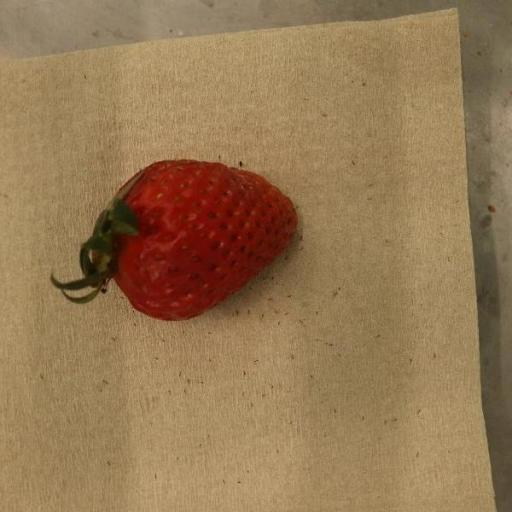Strawberry: (51, 160, 300, 321)
